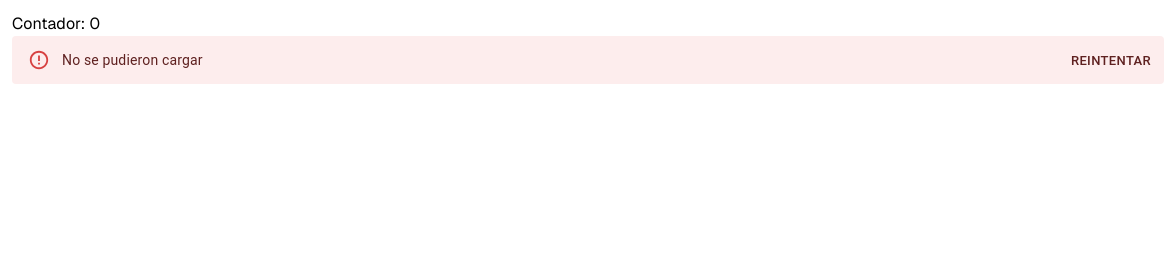
it: PaginaMensajes › si no puede cargarlos muestra el error y permite reintentar
Expected: the text "No se pudieron cargar" is shown, [62,52,203,68]
Click the button "Reintentar" at (1111, 61), box [1066,46,1156,77]
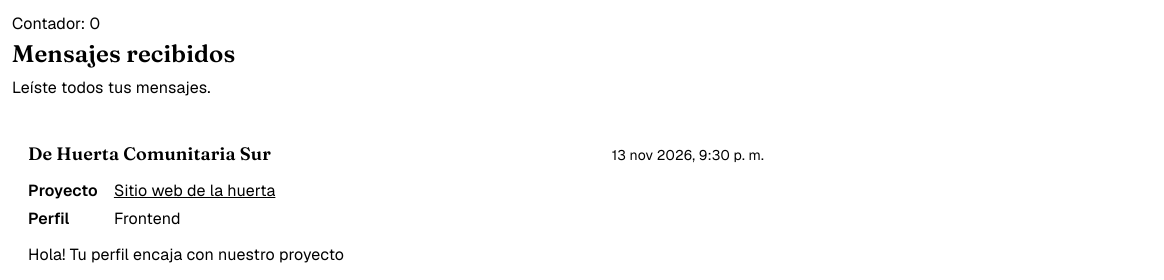
Result: the heading "De Huerta Comunitaria Sur" is shown at [28,140,271,167]
